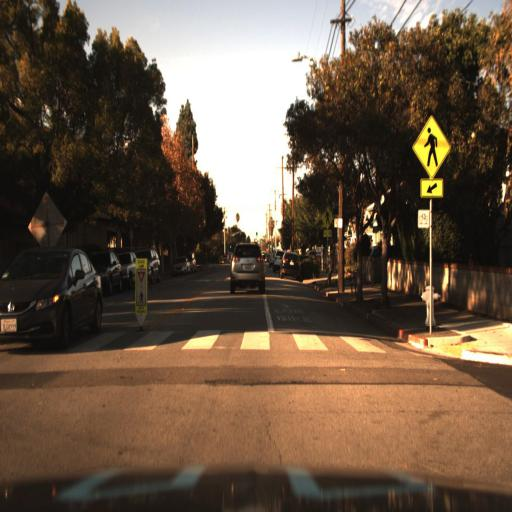car: (0, 244, 105, 349), (228, 236, 270, 296), (86, 245, 124, 293), (96, 250, 126, 291), (142, 246, 164, 289), (119, 247, 140, 291), (276, 248, 302, 282), (169, 253, 194, 279)
